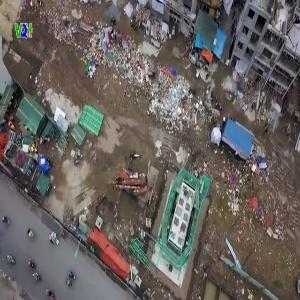drone: (115, 140, 154, 179)
